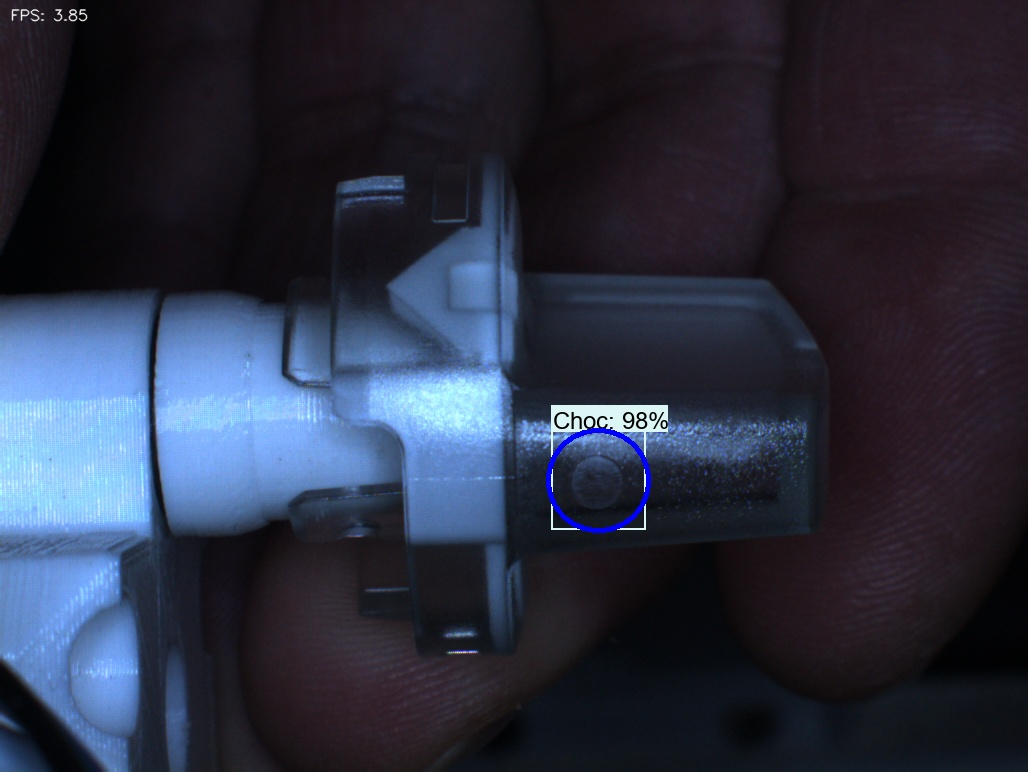DentOk: (355, 239, 439, 342)
